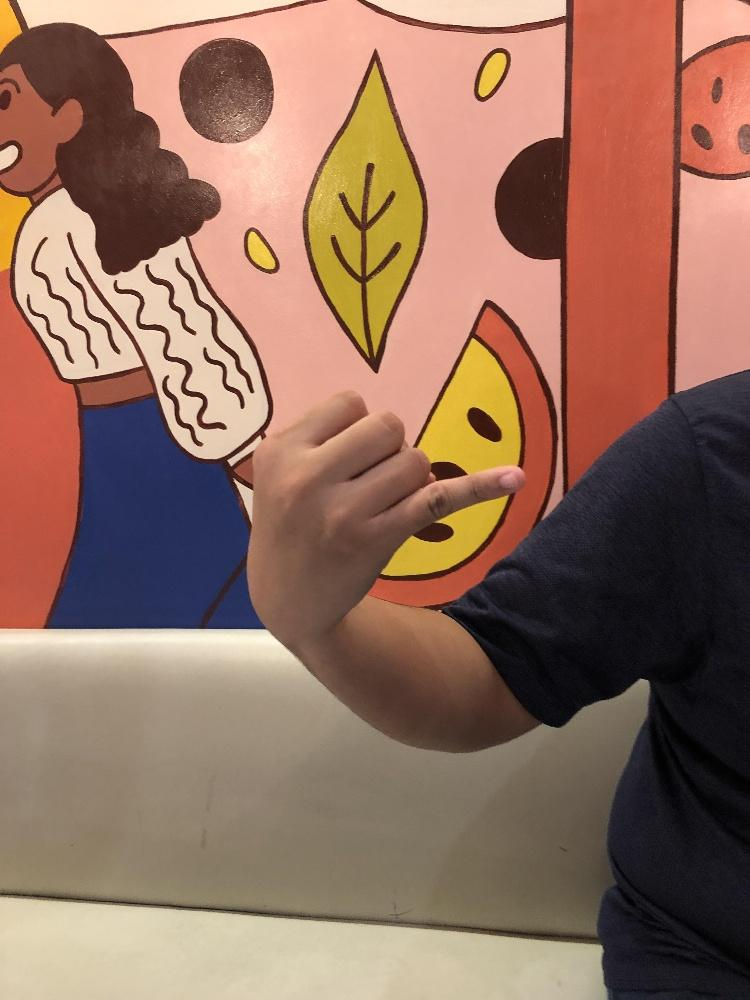j: (244, 391, 526, 631)
